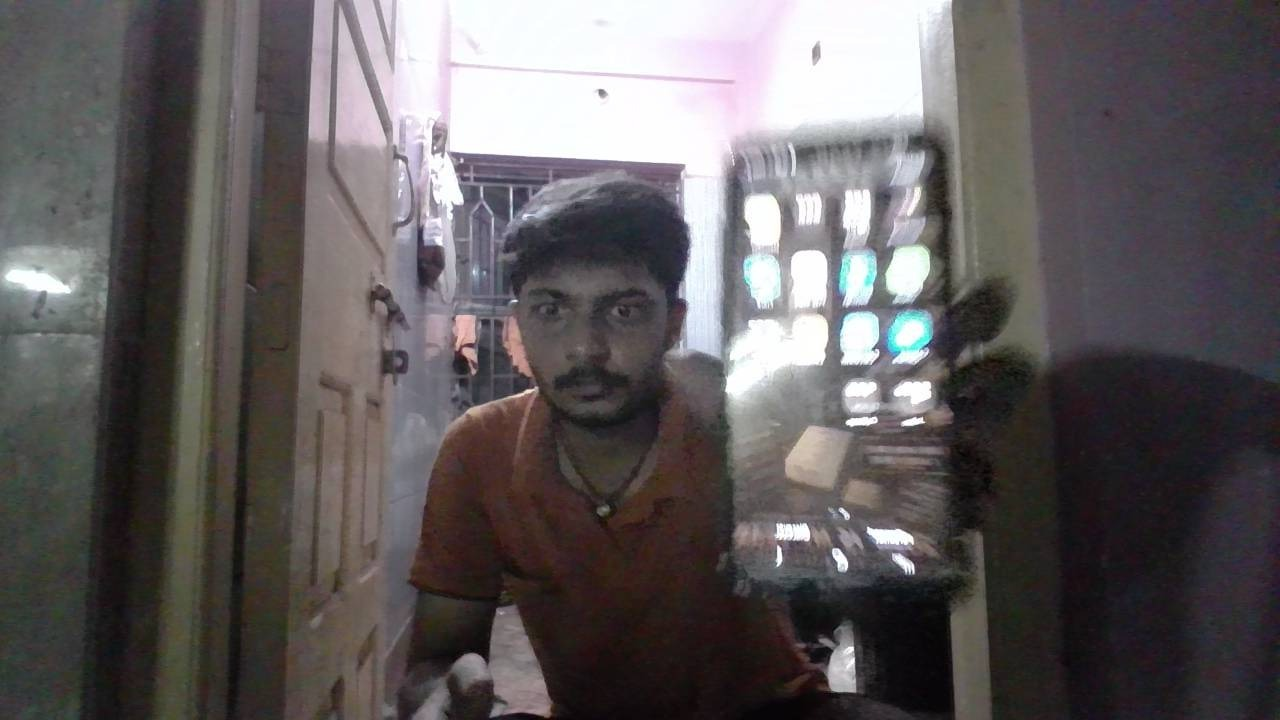red_box: (411, 407, 582, 584), (608, 439, 704, 544)
